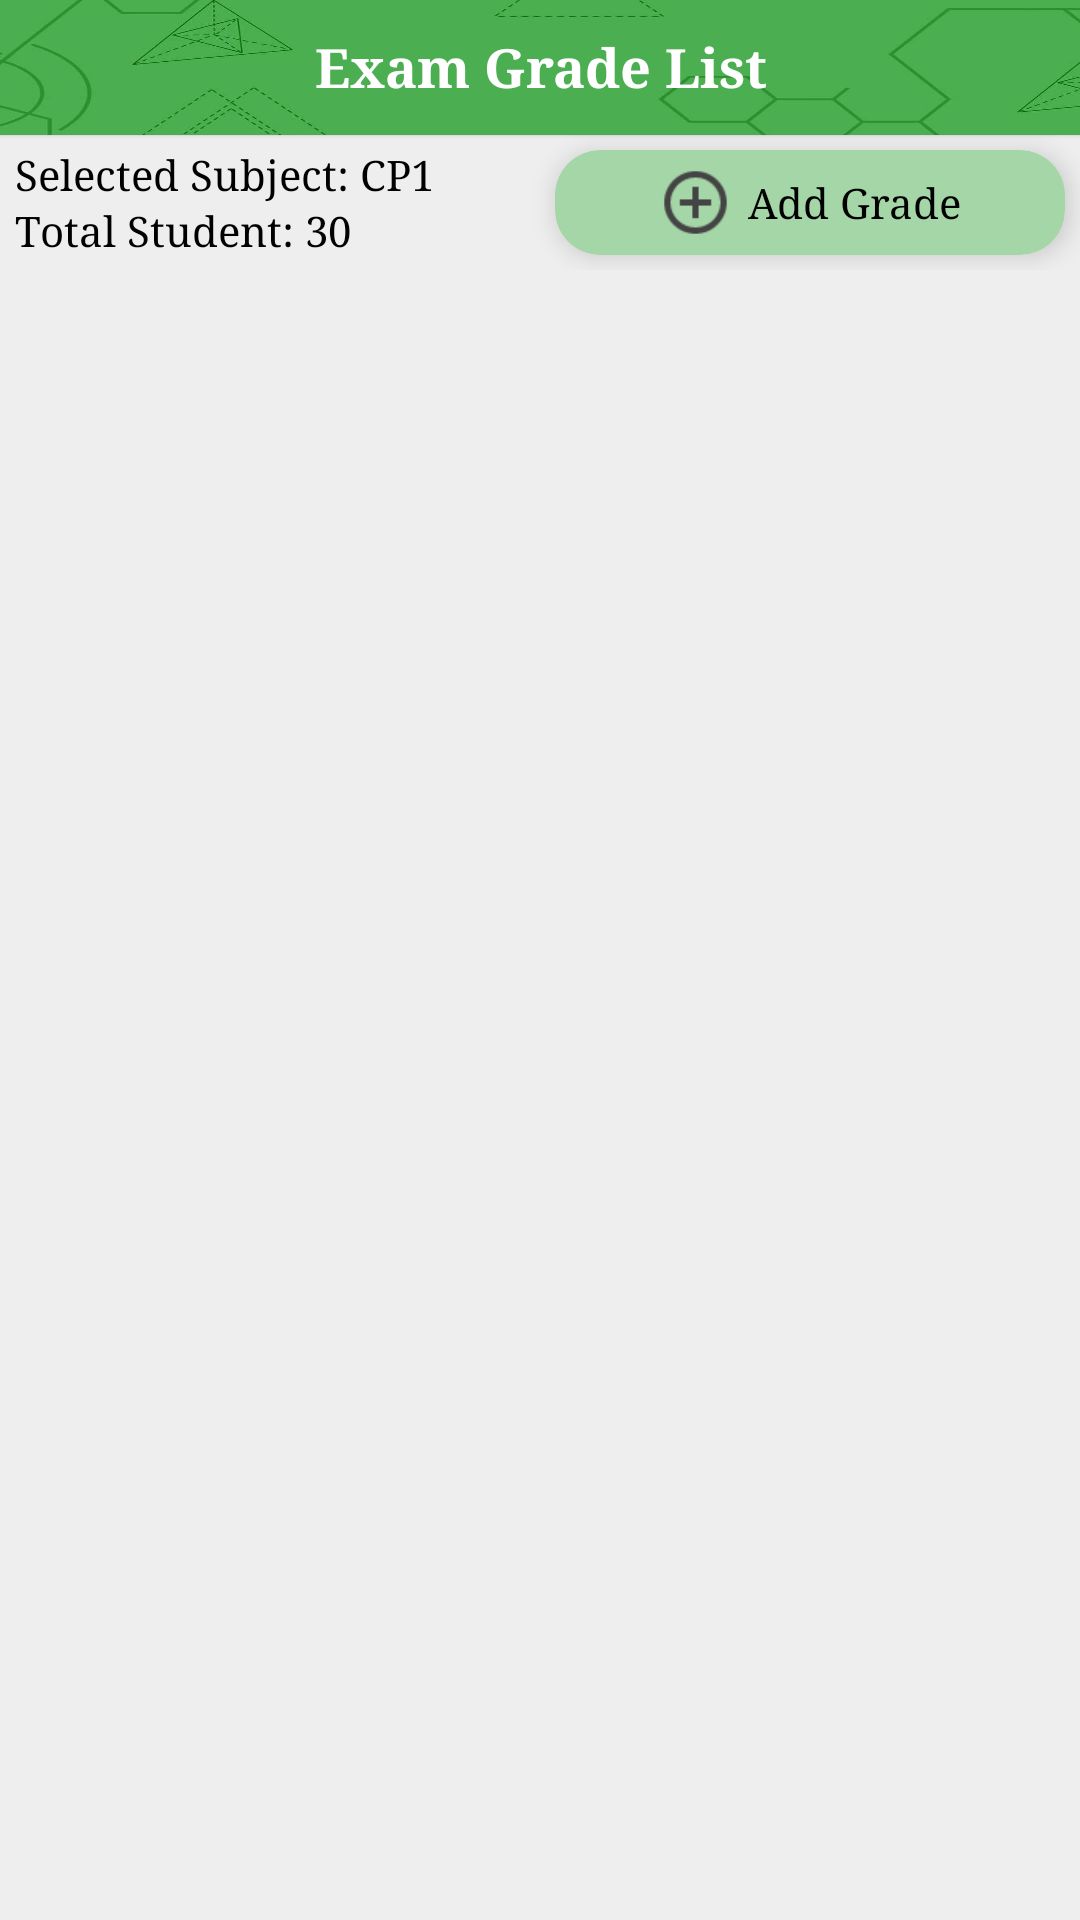

Screen size 1080 x 1920. Icon name, then its center in pixels as (x=x, y=y):
plus circle: (x=695, y=202)
